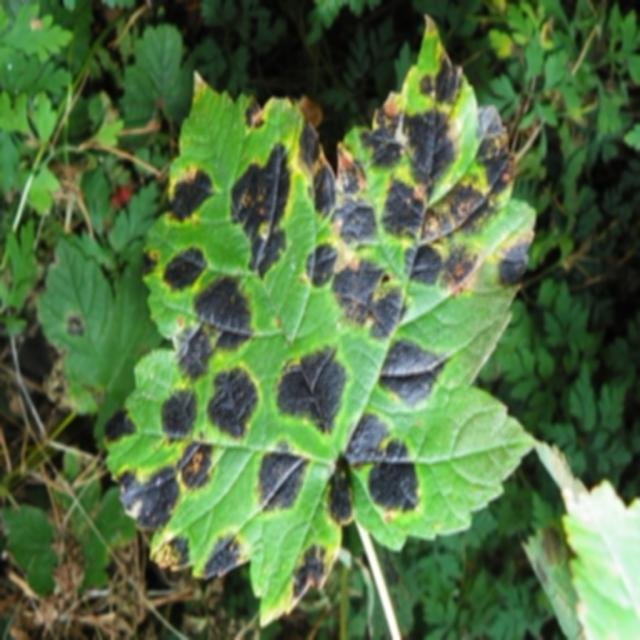Tar_Spot: (102, 12, 537, 622)
